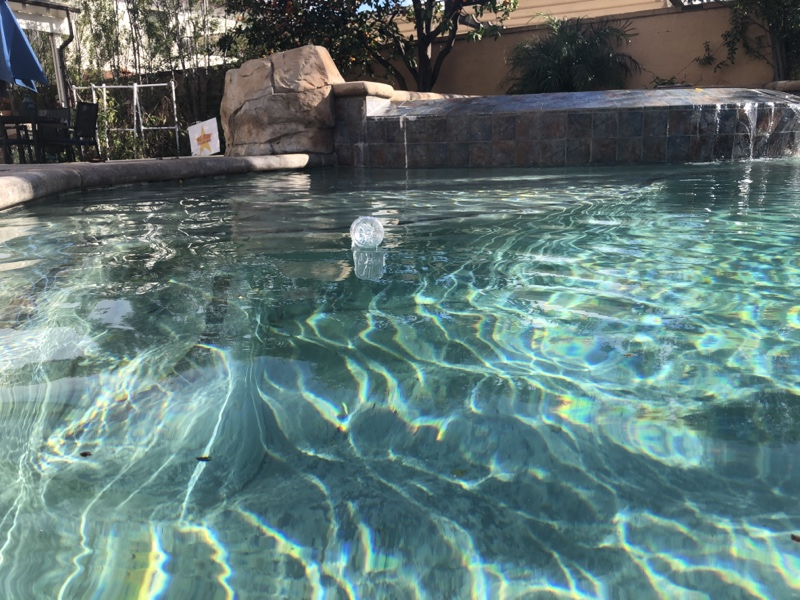Plastic Bottle: (346, 212, 388, 252)
